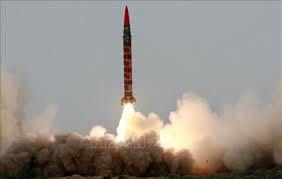ten_lua: (117, 3, 137, 105)
